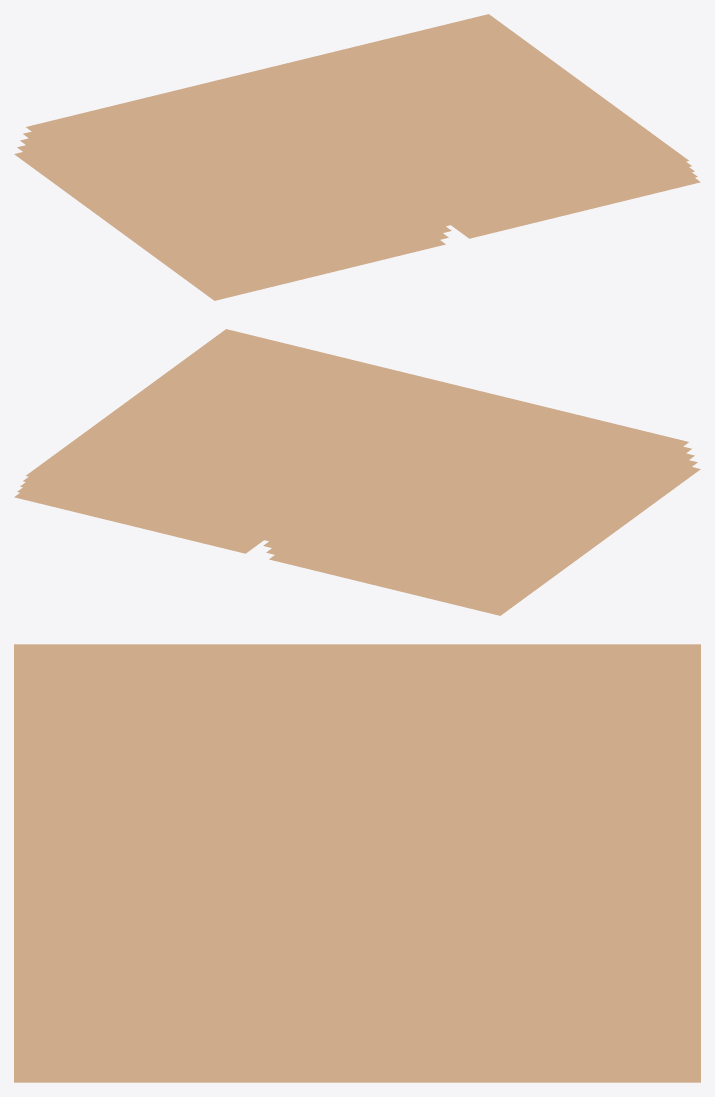
File: openBook 1.fbx
The picture shows the model from 3 angles, top to bottom: view 1: azimuth 30°, elevation 25°; view 2: azimuth 150°, elevation 25°; view 3: azimuth 270°, elevation 25°; orthographic projection. The views are drawn at different scales.
Parts seen in each view (by area): view 1: Papers.001, Papers; view 2: Papers.001, Papers; view 3: Papers, Papers.001.
Part boxes in pixels (x1,y1,x2,y2): Papers.001: (14, 70, 457, 300); Papers: (257, 14, 700, 238); Papers.001: (257, 385, 700, 615); Papers: (14, 329, 457, 553); Papers: (14, 838, 700, 1082); Papers.001: (14, 644, 700, 837).
Size of the model in its own units: 84 by 4 by 60.
